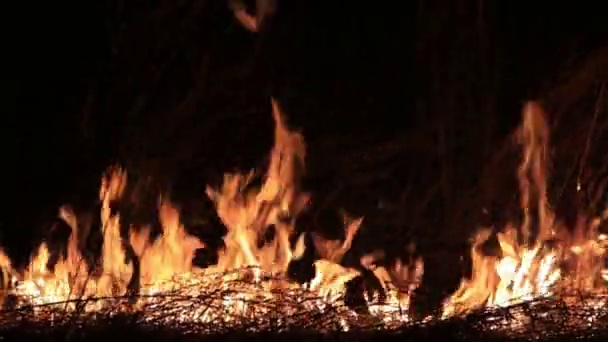fire: (202, 107, 312, 327), (1, 198, 199, 316), (438, 209, 608, 316), (308, 234, 424, 327)
